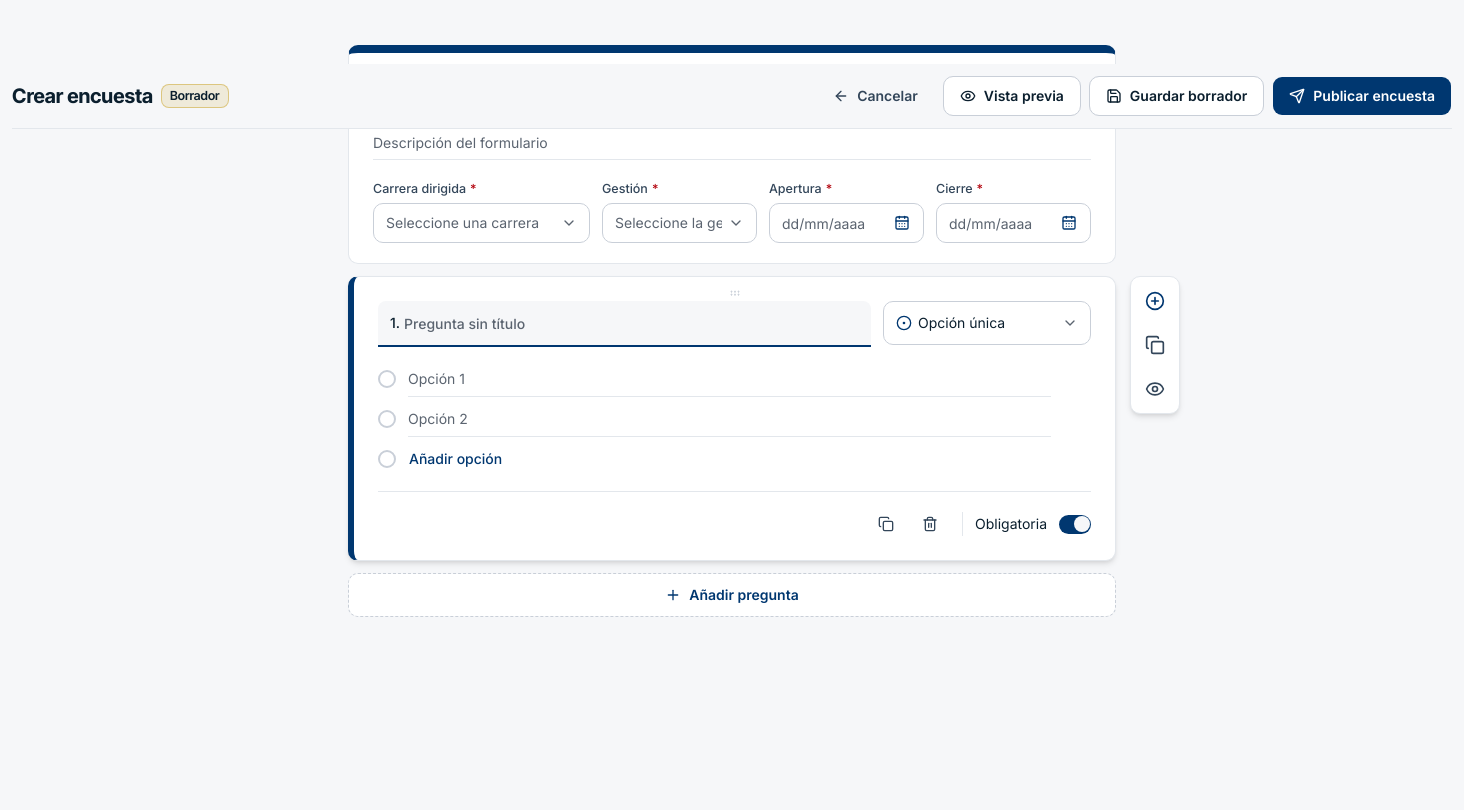
Test: CreateSurveyView › CA5: activa la tarjeta al hacer clic y resume las demás
Type "Primera" into the field named "Enunciado de la pregunta 1" at (632, 323), box x1=404 y1=301 x2=859 y2=345
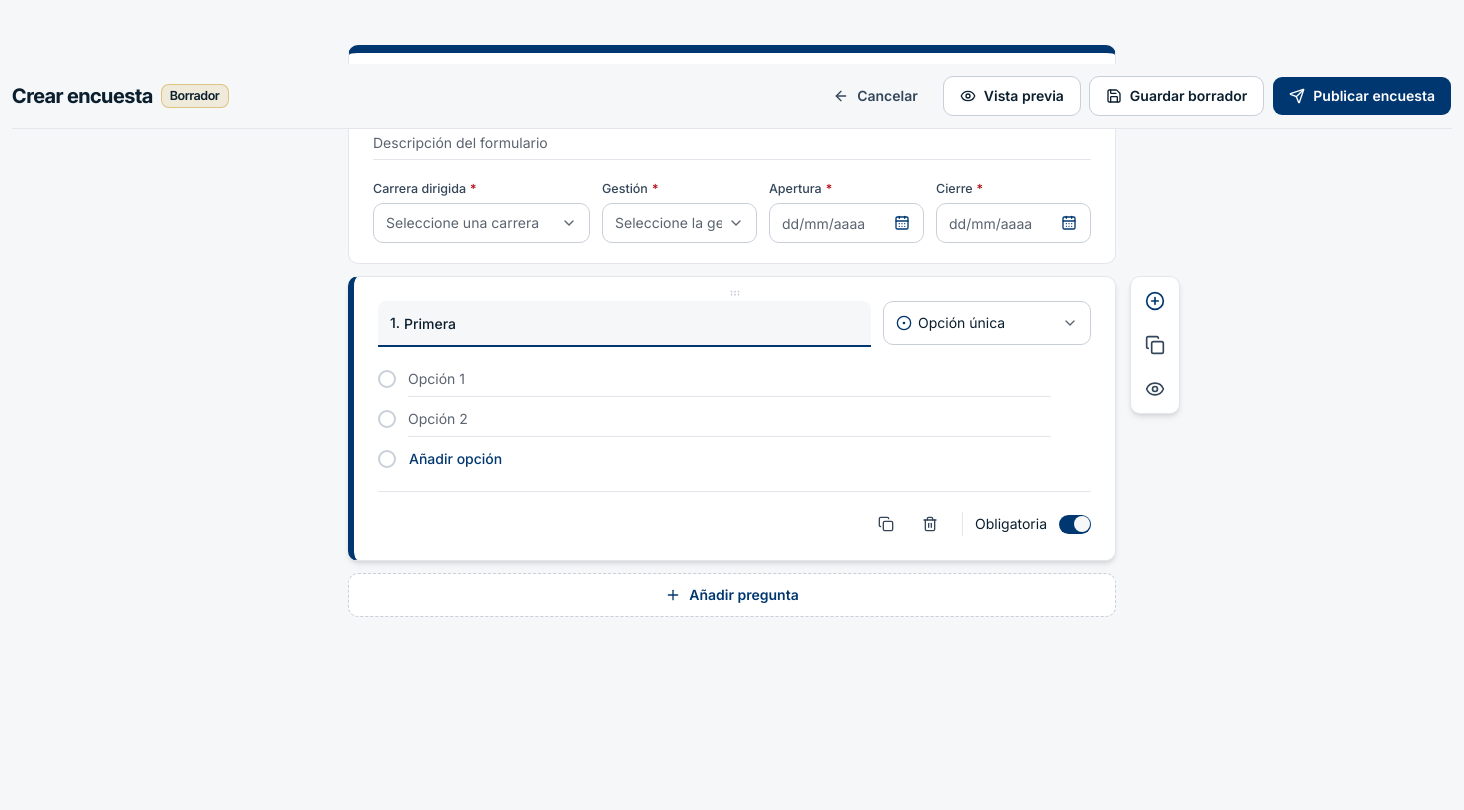
Click the button "Añadir pregunta" at (732, 595), box x1=348 y1=573 x2=1116 y2=617
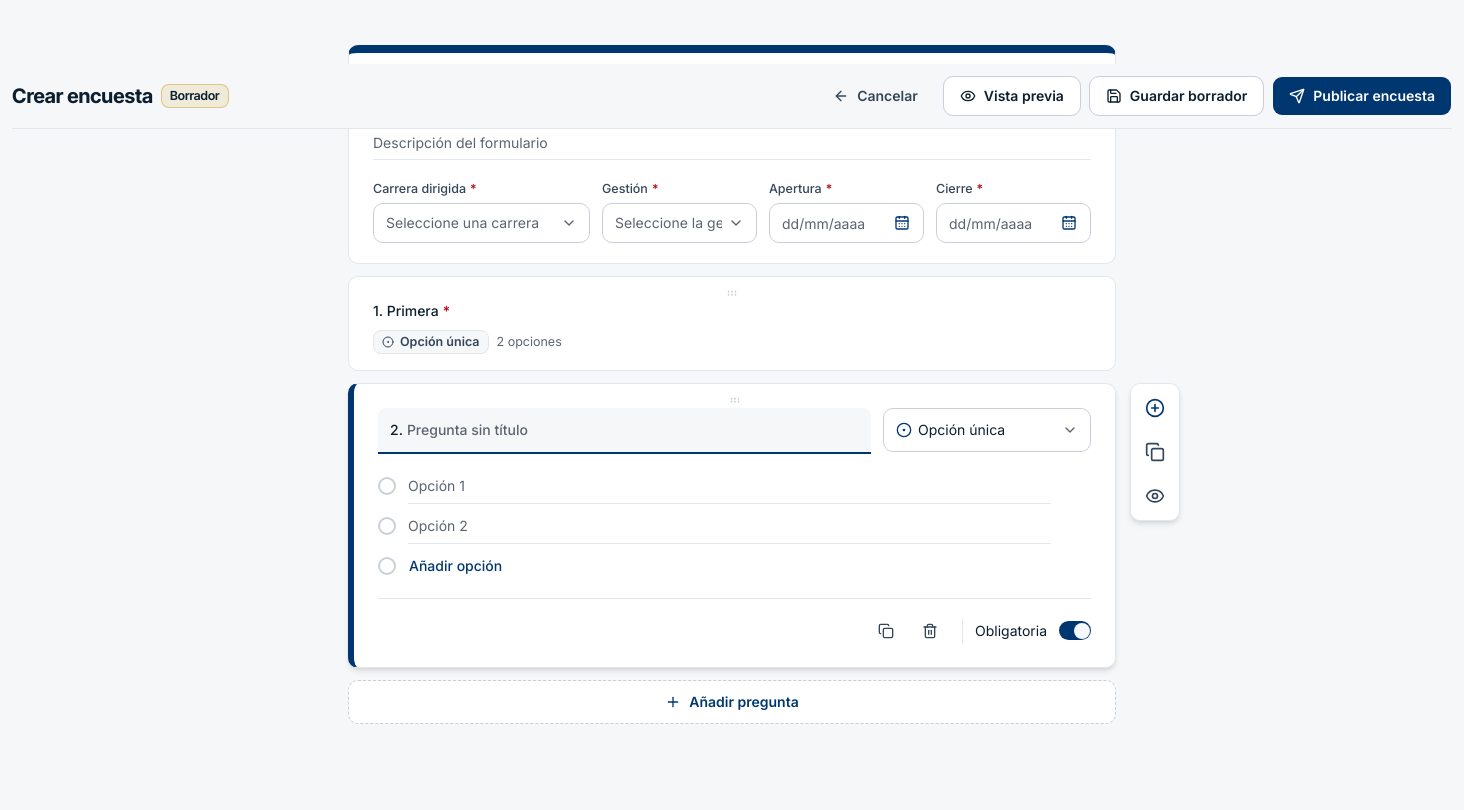
expect the button with aria-label "Editar pregunta 1" shows "1. Primera*": met
expect the button with aria-label "Editar pregunta 1" shows "Opción única": met
expect the button with aria-label "Editar pregunta 1" shows "2 opciones": met
Click the button with aria-label "Editar pregunta 1" at (467, 328), box x1=373 y1=302 x2=562 y2=354
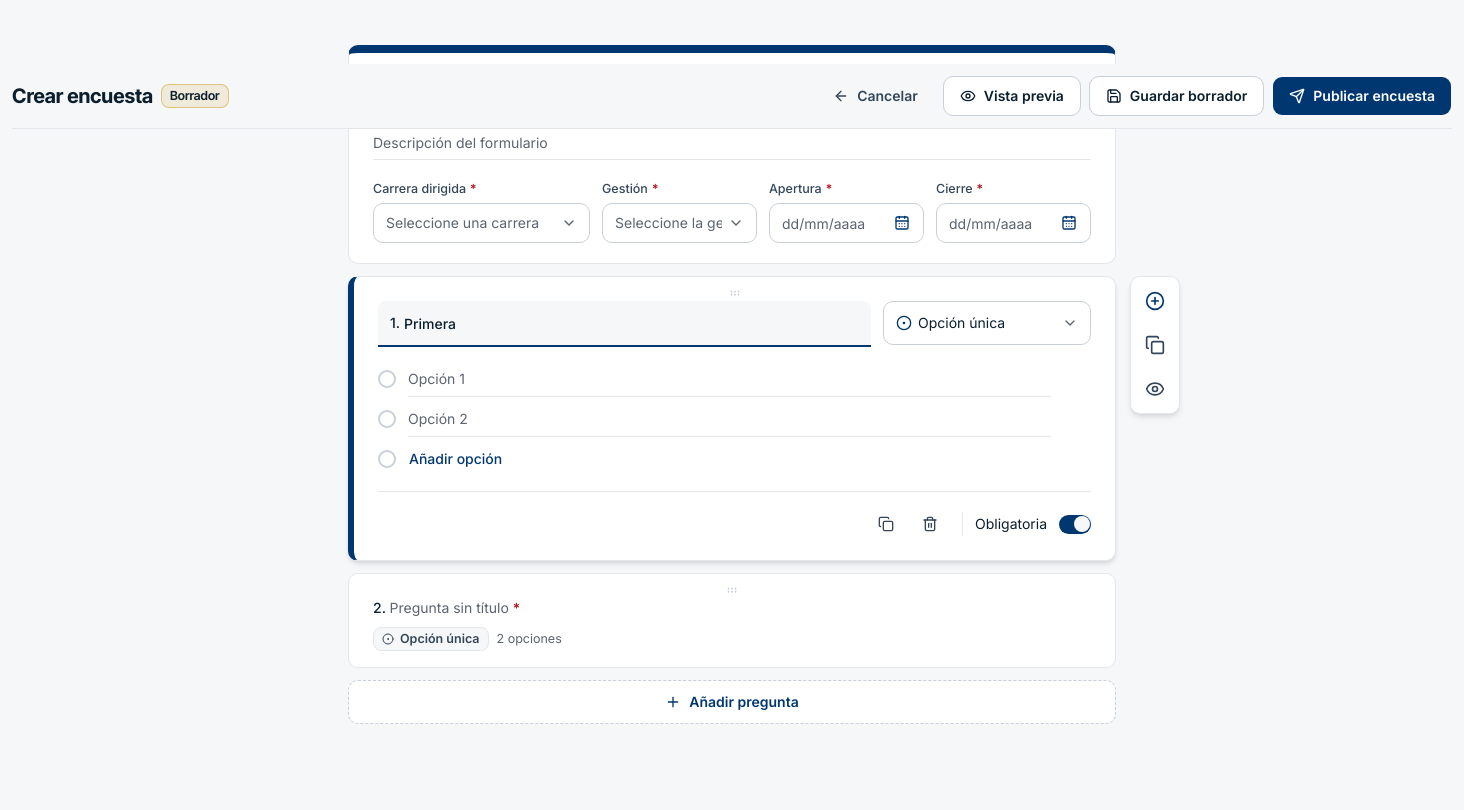
expect the field named "Enunciado de la pregunta 1" holds "Primera": met, box x1=404 y1=301 x2=859 y2=345
expect the button with aria-label "Editar pregunta 2" is shown: met, box x1=373 y1=599 x2=562 y2=651
